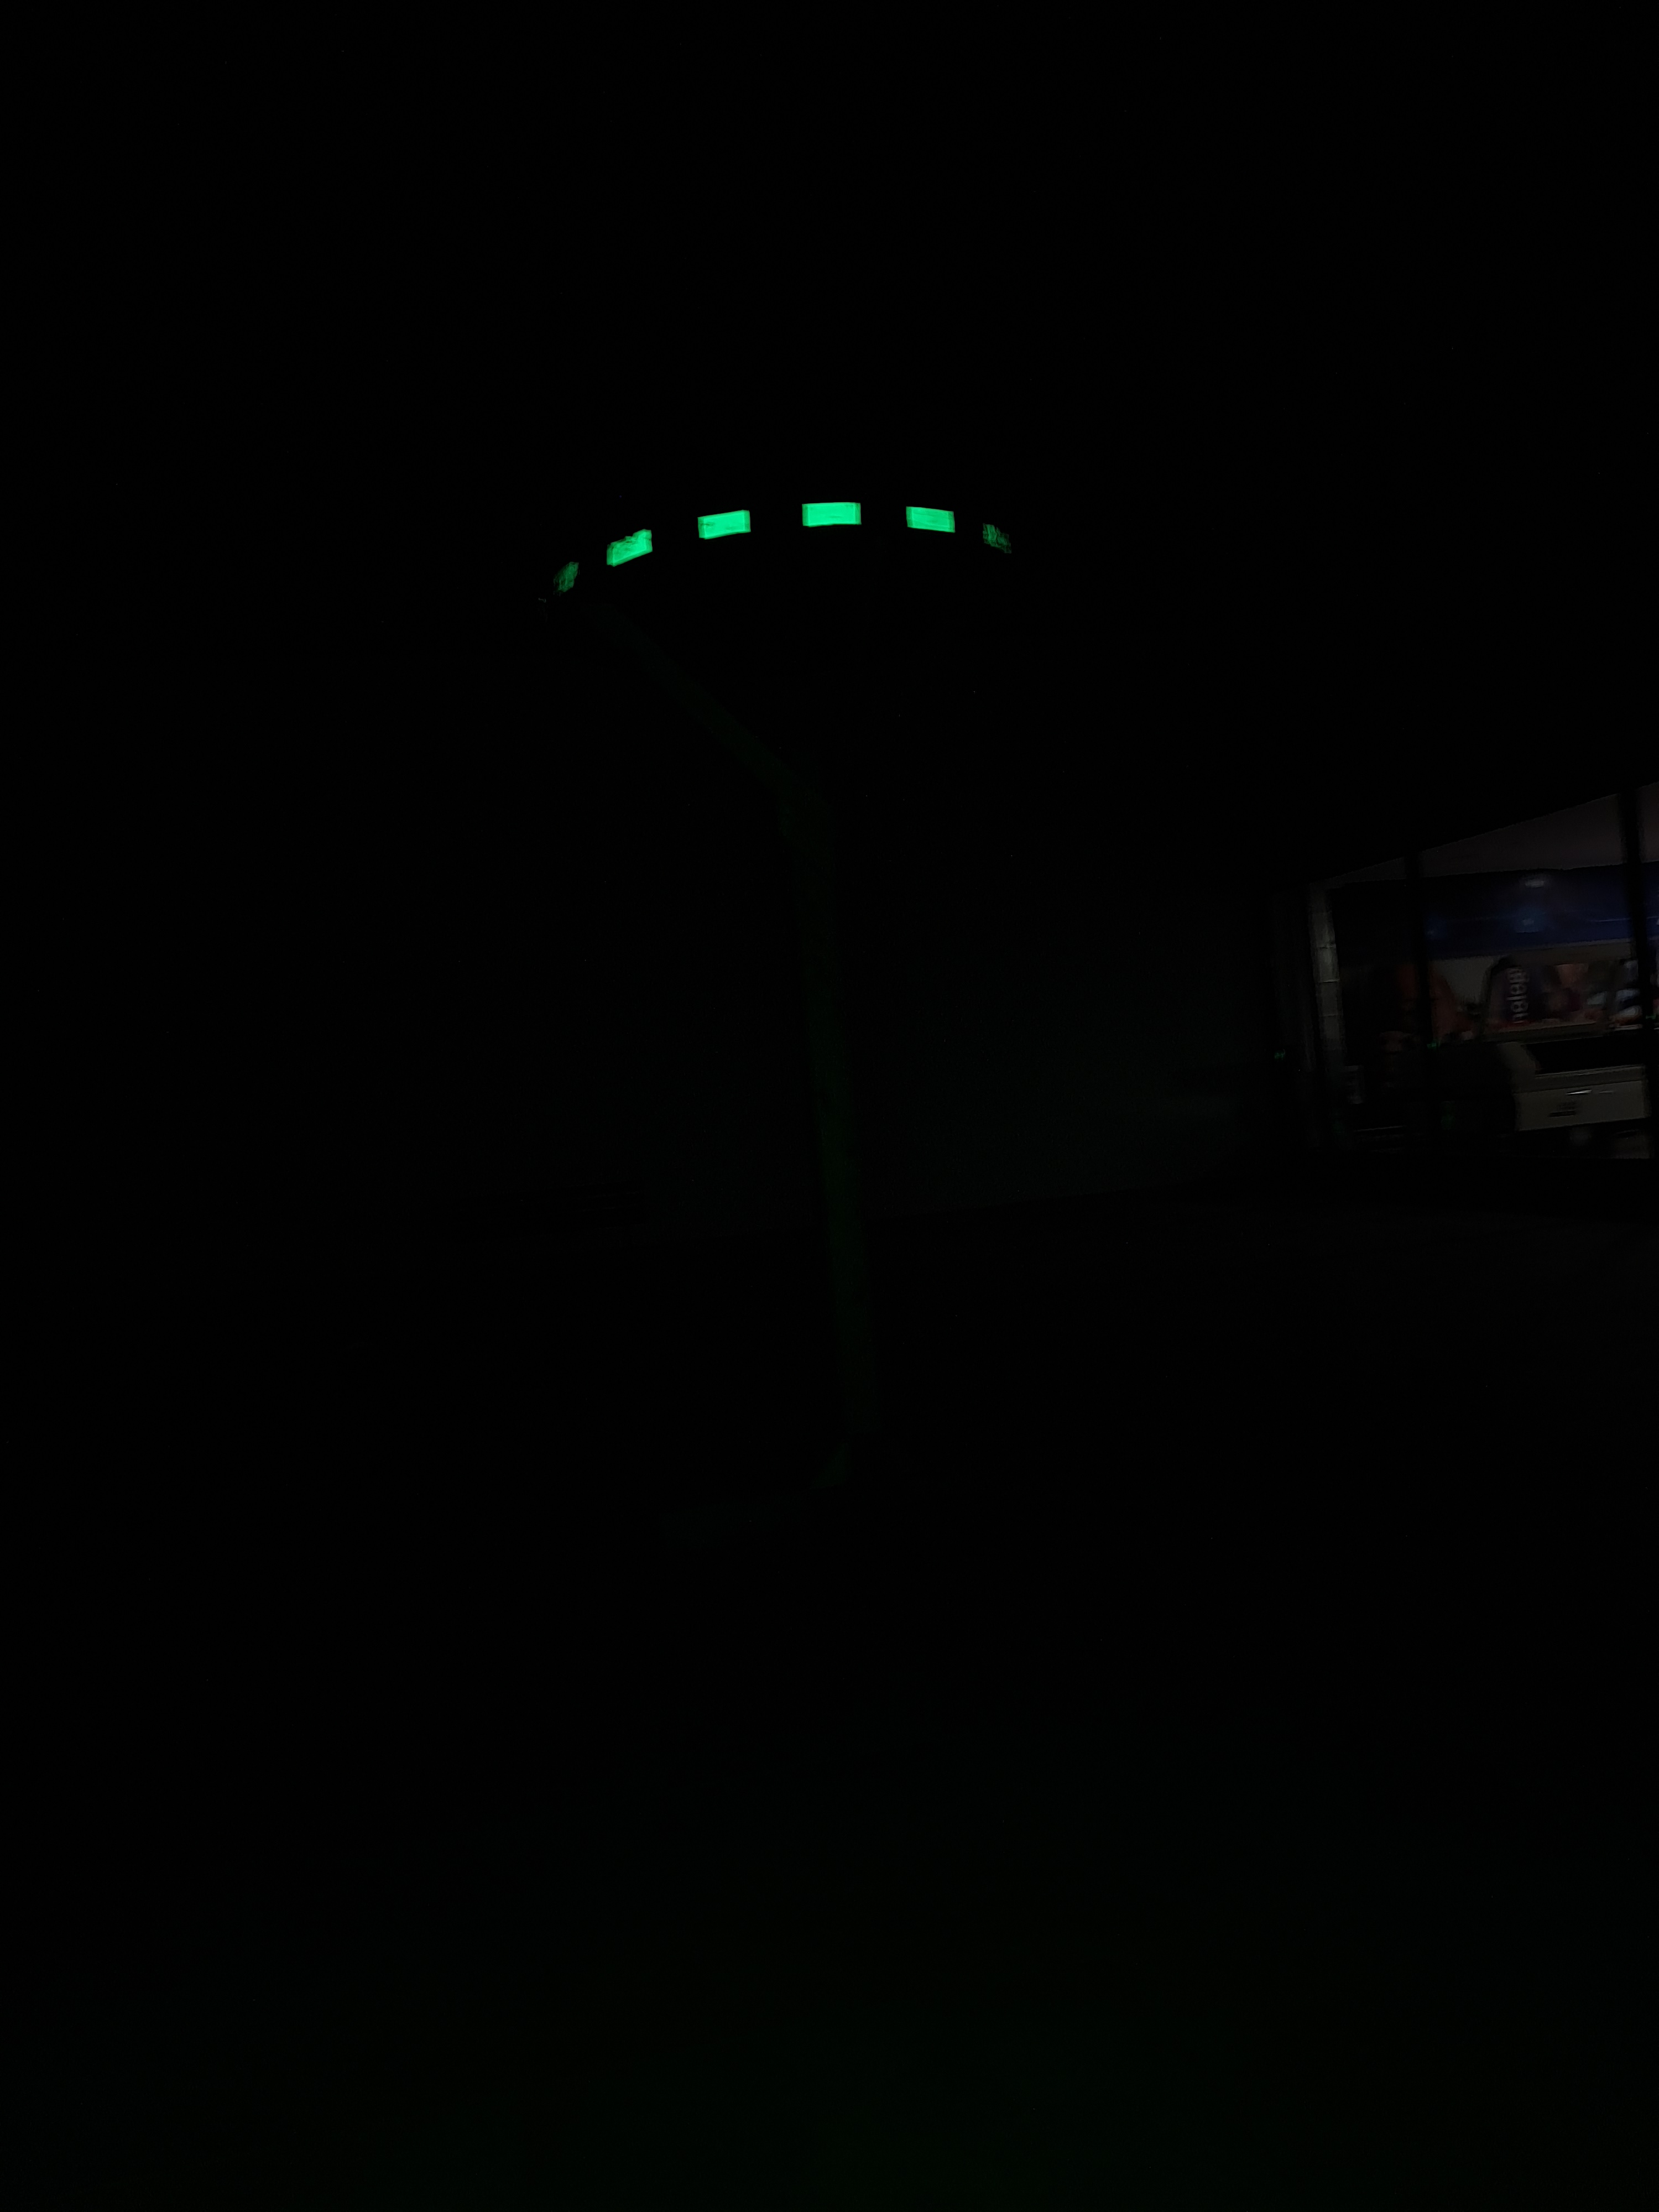hoop: (544, 472, 1072, 631)
